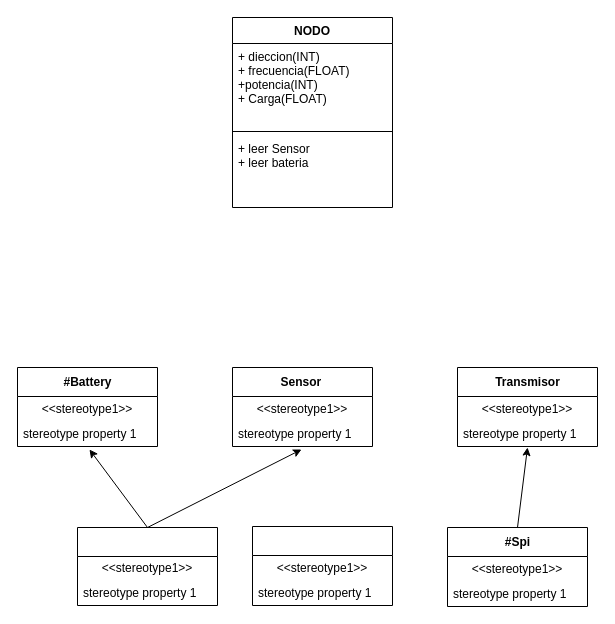
The diagram is 615 pixels wide and 624 high, and some of its shapes have lost their labels. The shapes that lost their labels are listed below. From the top down, each one's box as (x1, y1, x2, y2) in pixels, then its label:
(76, 526, 218, 606): # PuertoAnalogo
(252, 526, 392, 606): digital port
